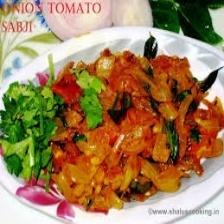sabzi: (0, 33, 224, 218)
